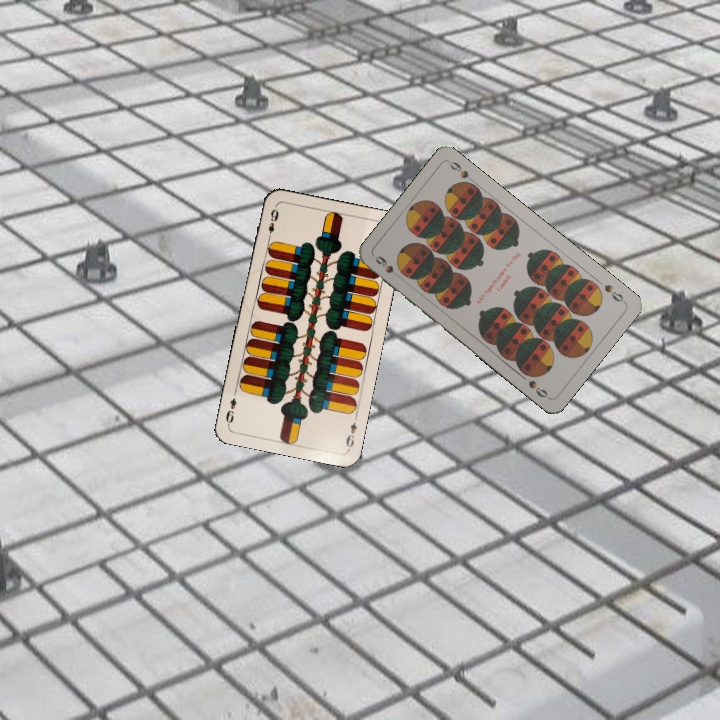E9: (263, 203, 281, 243), (342, 412, 360, 452)
S9: (371, 252, 404, 282), (600, 280, 628, 305)
